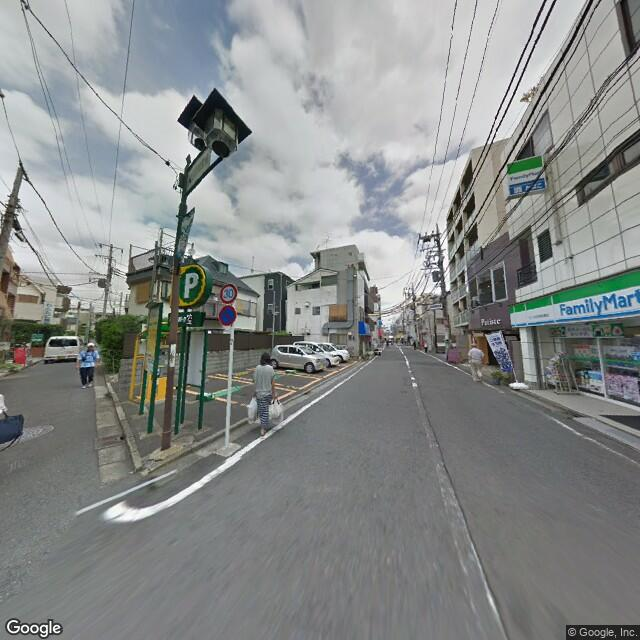family_mart: (505, 264, 639, 332), (558, 284, 639, 321), (507, 152, 542, 196)
